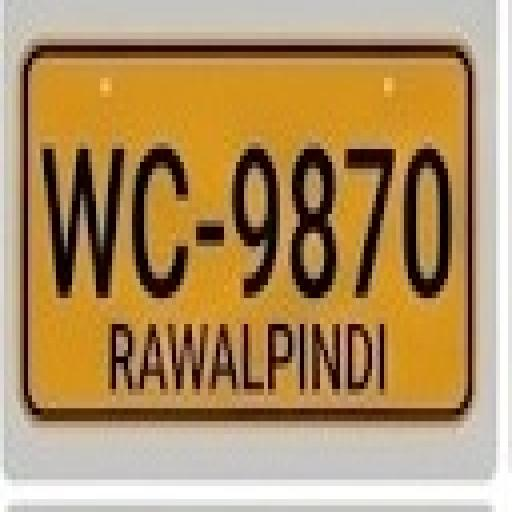0: (400, 141, 456, 311)
7: (342, 143, 396, 305)
8: (287, 143, 338, 306)
9: (229, 149, 281, 296)
C: (126, 152, 194, 305)
W: (38, 146, 124, 300)
